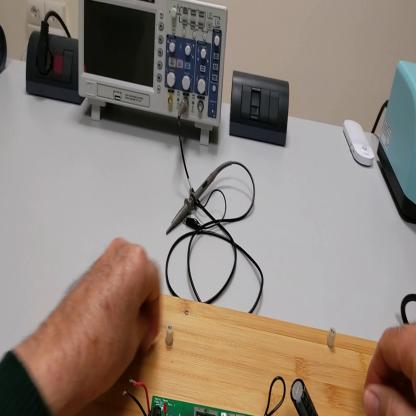hand: (49, 236, 164, 400), (363, 324, 416, 416)
high voltage board: (125, 375, 318, 414)
oscilloscope: (78, 1, 228, 144)
oscilloscope probe tip: (167, 162, 223, 235)
socket: (27, 31, 88, 109), (2, 21, 9, 73)
welder station: (379, 54, 416, 224)
working area: (79, 295, 378, 416)
